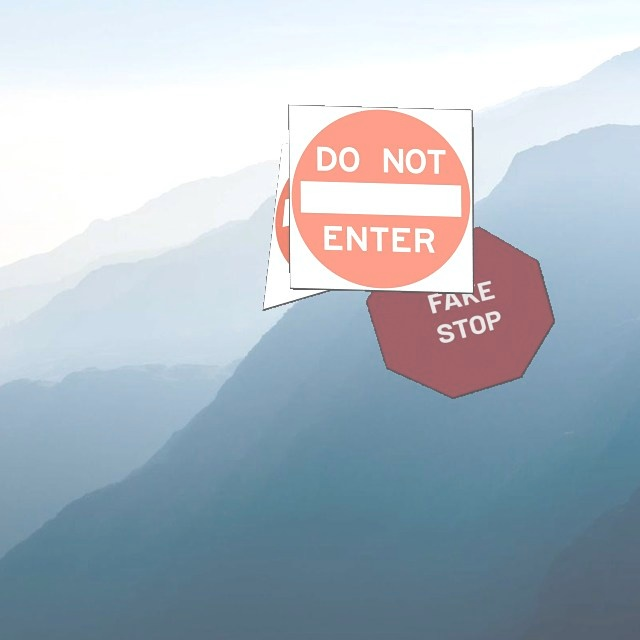DO_NOT_ENTER: (288, 104, 474, 293), (262, 121, 432, 310)
FAKE_STOP: (365, 226, 555, 399)
